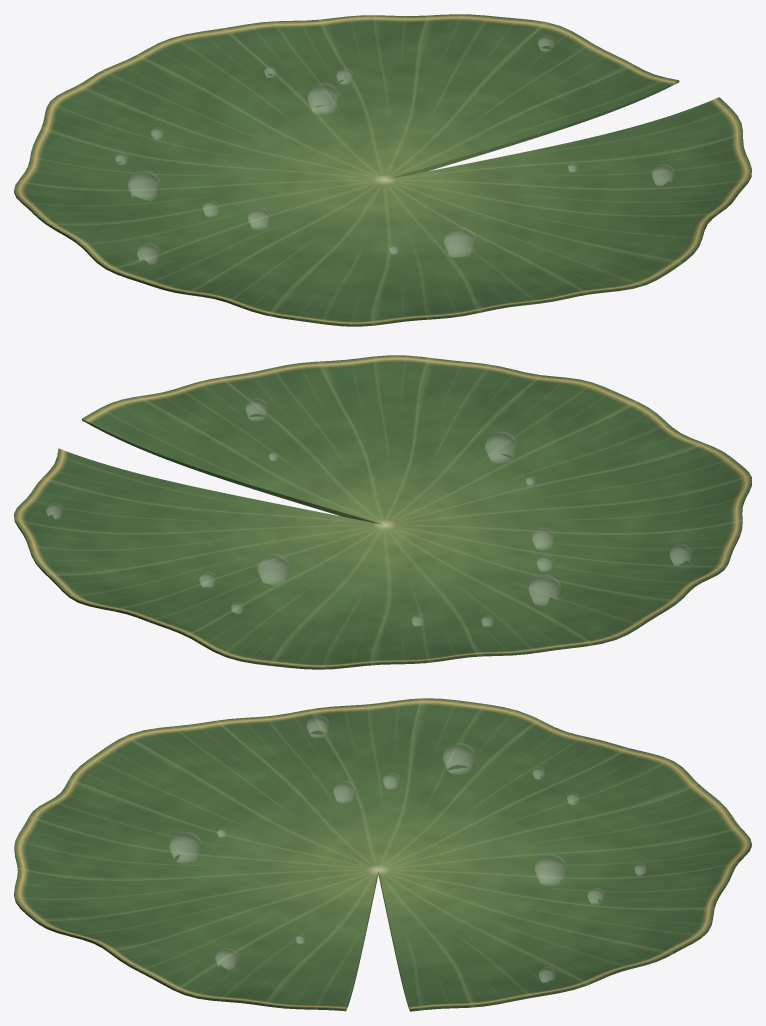
Rendered from lotus-leaf.glb.
3 views of the same model, one above another, from view 1: azimuth 30°, elevation 25°; view 2: azimuth 150°, elevation 25°; view 3: azimuth 270°, elevation 25° (orthographic).
Visible parts, largest first — view 1: LilyPad, WaterBeads; view 2: LilyPad, WaterBeads; view 3: LilyPad, WaterBeads.
Boxes of the visible parts, bbox=[...] form: LilyPad: bbox=[14, 14, 751, 326]; WaterBeads: bbox=[115, 35, 674, 264]; LilyPad: bbox=[14, 355, 751, 669]; WaterBeads: bbox=[46, 399, 692, 626]; LilyPad: bbox=[14, 698, 751, 1011]; WaterBeads: bbox=[169, 716, 646, 982].
Bounding box in the file's own units: 0.2016 × 0.00957 × 0.2023.
3 materials, 1 textured.
